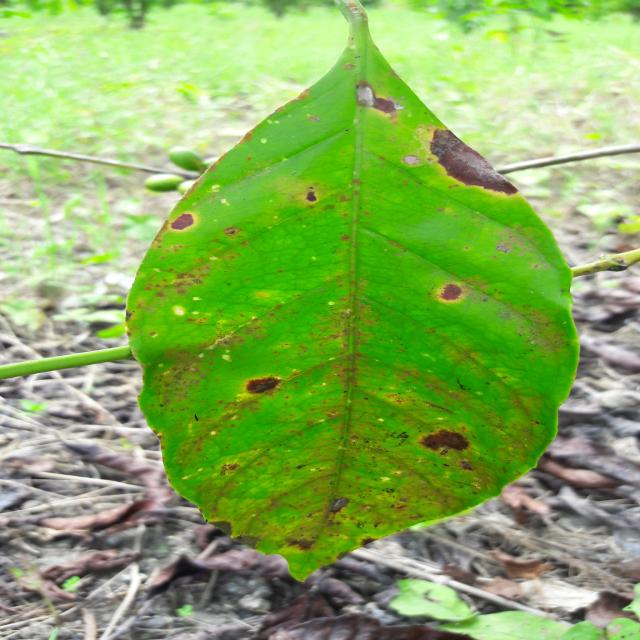Enfermedad-Roya: (124, 11, 581, 584)
